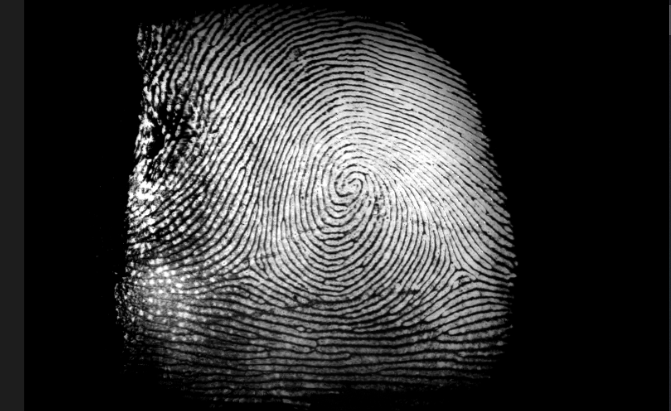nucelo: (331, 165, 366, 202)
verticilo: (231, 251, 271, 281), (441, 258, 475, 280)
